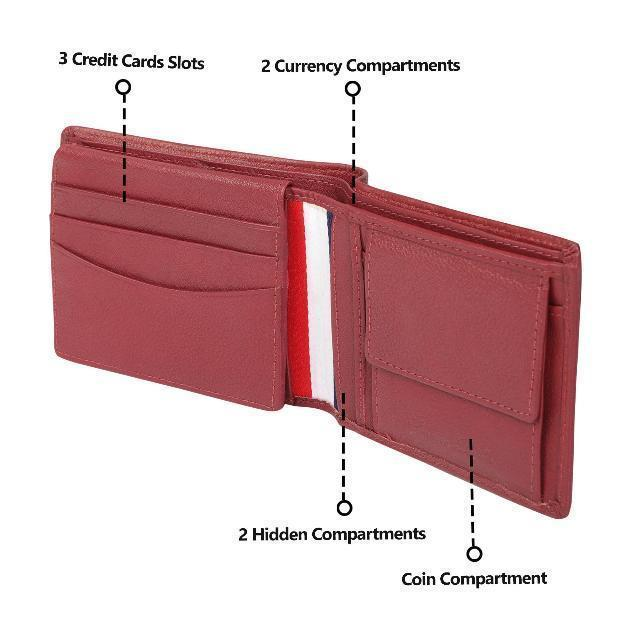wallet: (47, 121, 583, 527)
